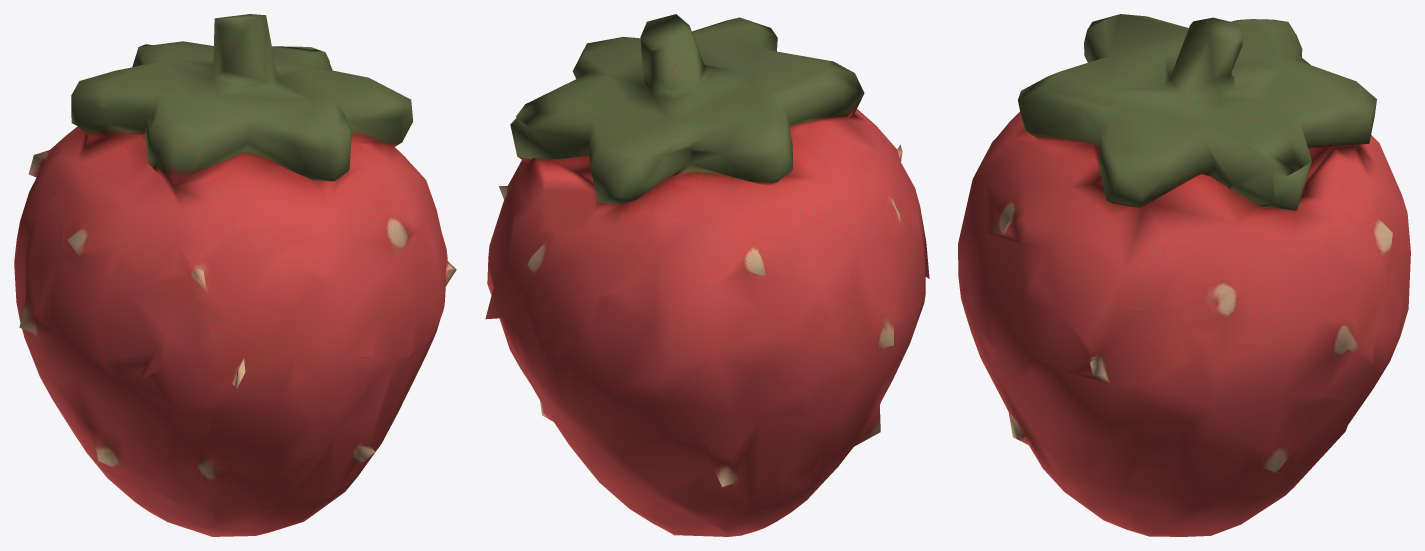
File: FR_사물_s5_dessert_part_strawberry.glb
3 views of the same model, side by side, from view 1: azimuth 30°, elevation 25°; view 2: azimuth 150°, elevation 25°; view 3: azimuth 270°, elevation 25° (orthographic). The views are drawn at different scales.
Visible parts, largest first — view 1: tripo_node_8a0d417f-61ee-4890-93ba-72757c2b8578; view 2: tripo_node_8a0d417f-61ee-4890-93ba-72757c2b8578; view 3: tripo_node_8a0d417f-61ee-4890-93ba-72757c2b8578.
Part boxes in pixels (x1=…): tripo_node_8a0d417f-61ee-4890-93ba-72757c2b8578: x1=14, y1=14, x2=456, y2=536; tripo_node_8a0d417f-61ee-4890-93ba-72757c2b8578: x1=485, y1=14, x2=929, y2=536; tripo_node_8a0d417f-61ee-4890-93ba-72757c2b8578: x1=958, y1=14, x2=1410, y2=536.
Bounding box in the file's own units: 0.097 × 0.12 × 0.095.
1 material, 1 textured.
